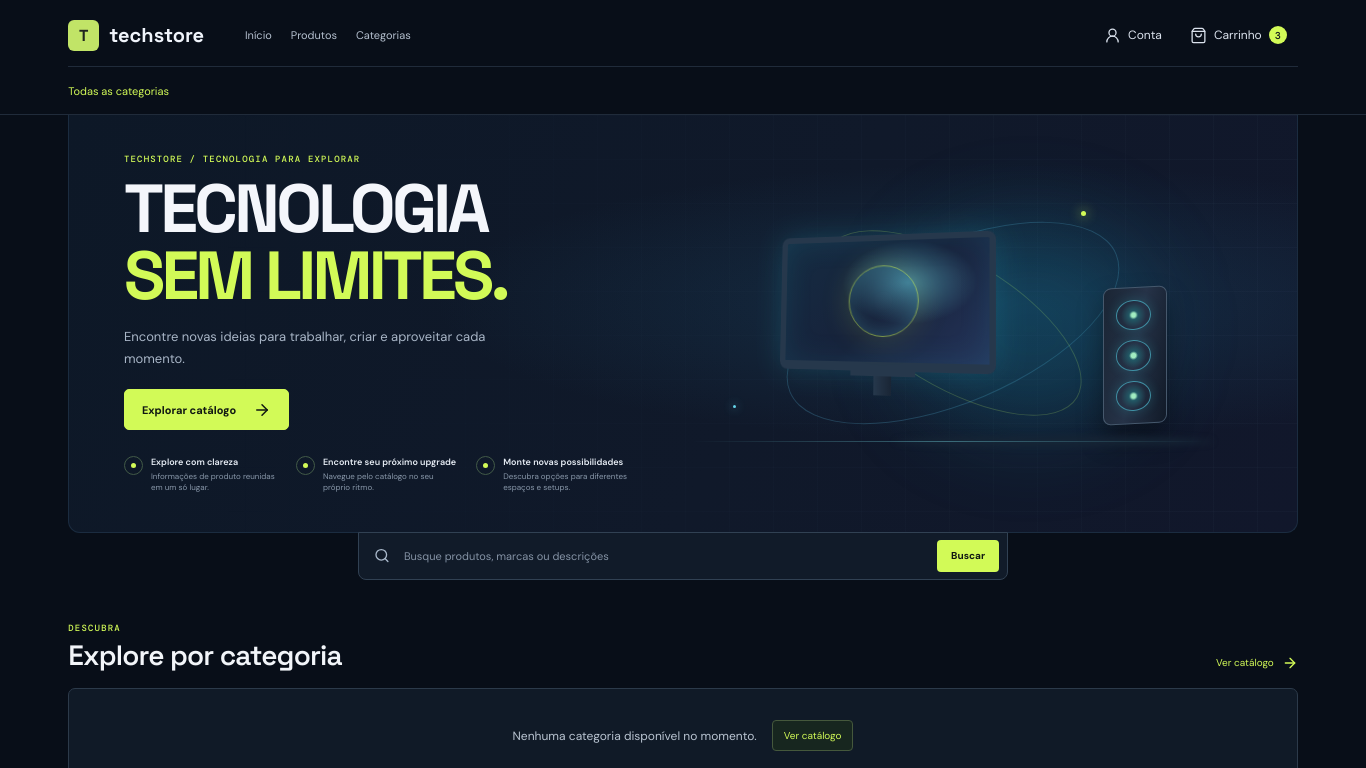
Test: App cart navigation and badge › shows the sum of all quantities and navigates to the cart without another GET
Click the link with aria-label "Carrinho, 3 unidades": (1238, 35) [1190,26,1287,44]
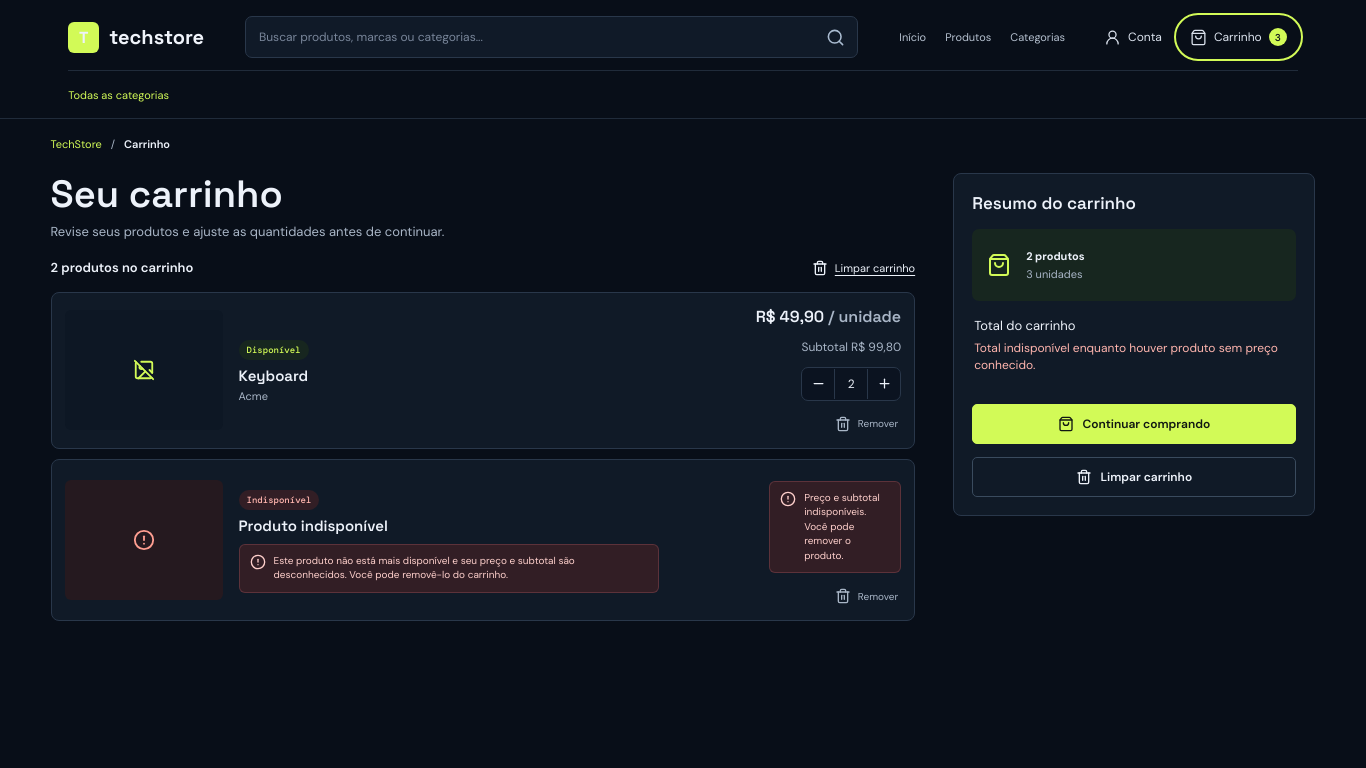
expect the heading "Seu carrinho" is shown: met, box [50,170,283,218]
